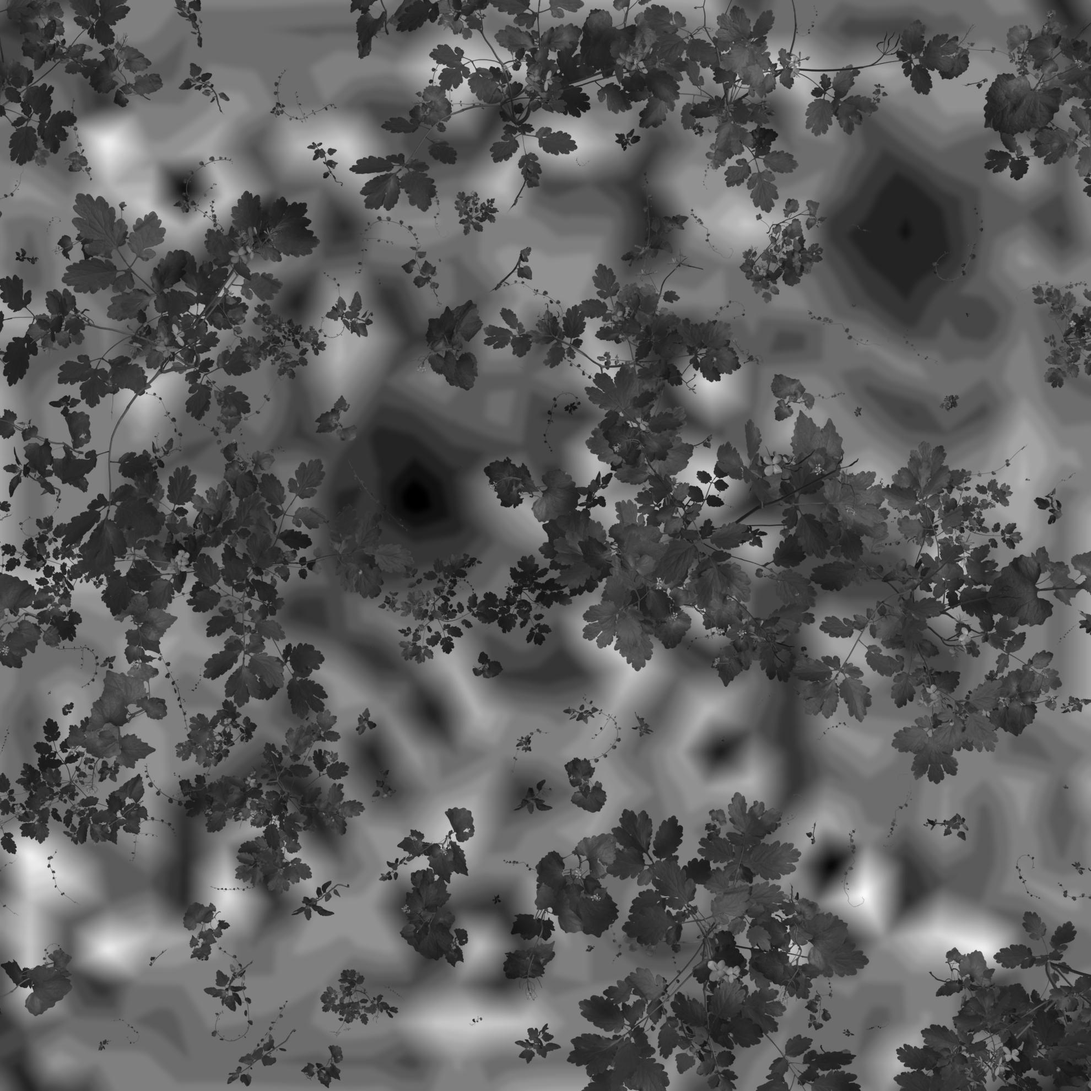landmine: (351, 433, 481, 554), (846, 176, 971, 291)
